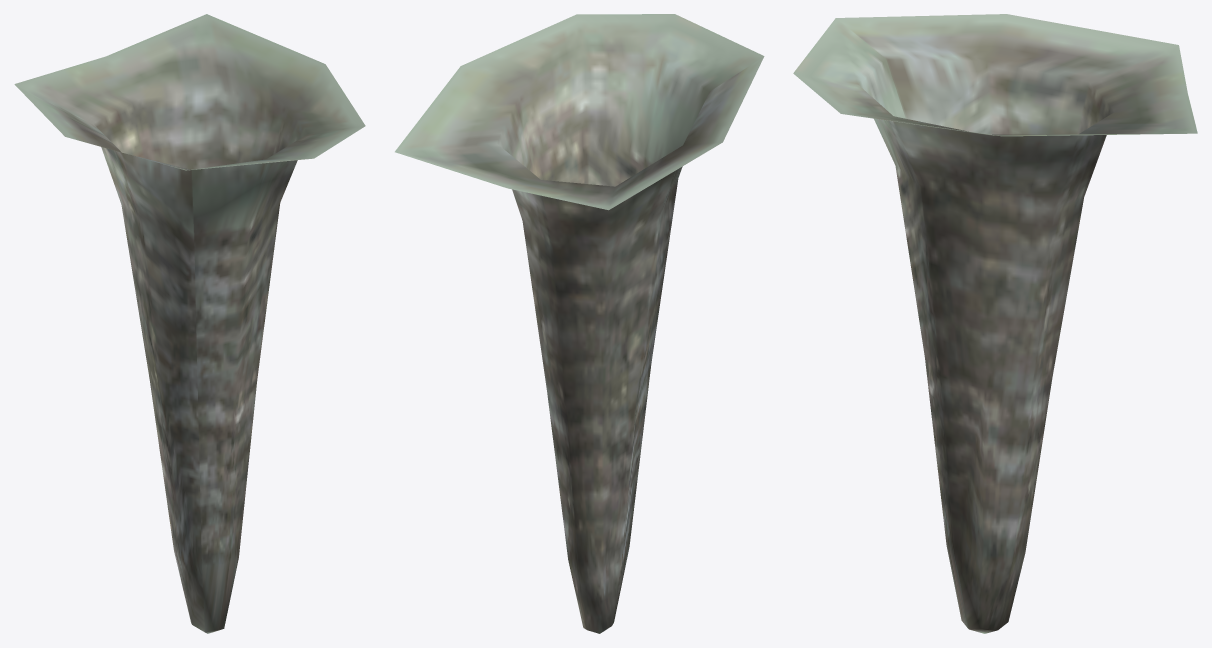
The model's file is TROLLHOLE02_PS-SECRETSTALAG47.fbx.
3 views of the same model, side by side, from view 1: azimuth 30°, elevation 25°; view 2: azimuth 150°, elevation 25°; view 3: azimuth 270°, elevation 25° (orthographic). The views are drawn at different scales.
Visible parts, largest first — view 1: TROLLHOLE02_PS-SECRETSTALAG47; view 2: TROLLHOLE02_PS-SECRETSTALAG47; view 3: TROLLHOLE02_PS-SECRETSTALAG47.
Part boxes in pixels (x1,y1,x2,y2): TROLLHOLE02_PS-SECRETSTALAG47: [14, 14, 365, 633]; TROLLHOLE02_PS-SECRETSTALAG47: [395, 14, 764, 633]; TROLLHOLE02_PS-SECRETSTALAG47: [793, 14, 1197, 633].
Bounding box in the file's own units: 18381 × 36473 × 23527.
1 material, 1 textured.
